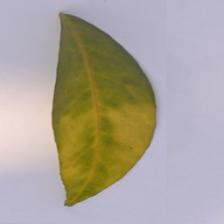greening: (33, 6, 169, 214)
